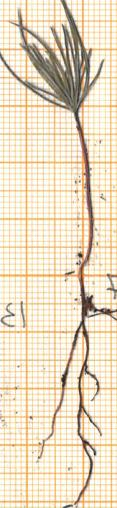flower: (0, 0, 117, 112)
root: (30, 273, 117, 508)
stem: (68, 114, 97, 274)
